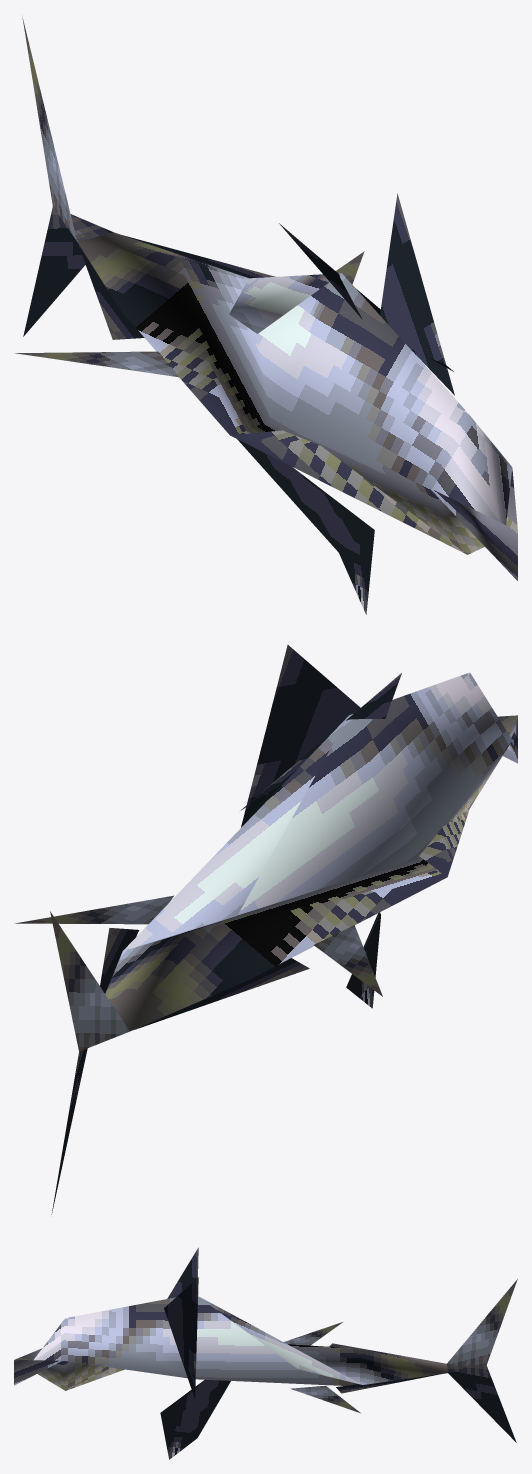
3 renders of one model, top to bottom at view 1: azimuth 30°, elevation 25°; view 2: azimuth 150°, elevation 25°; view 3: azimuth 270°, elevation 25°, orthographic. The views are drawn at different scales.
Parts seen in each view (by area): view 1: 4818fish28; view 2: 4818fish28; view 3: 4818fish28.
Part boxes in pixels (box(x1,y1,x2,y2)): 4818fish28: box(15, 16, 517, 614); 4818fish28: box(15, 645, 517, 1214); 4818fish28: box(14, 1247, 517, 1459).
Size of the model in its own units: 0.4321 by 0.4341 by 1.
1 material, 1 textured.
